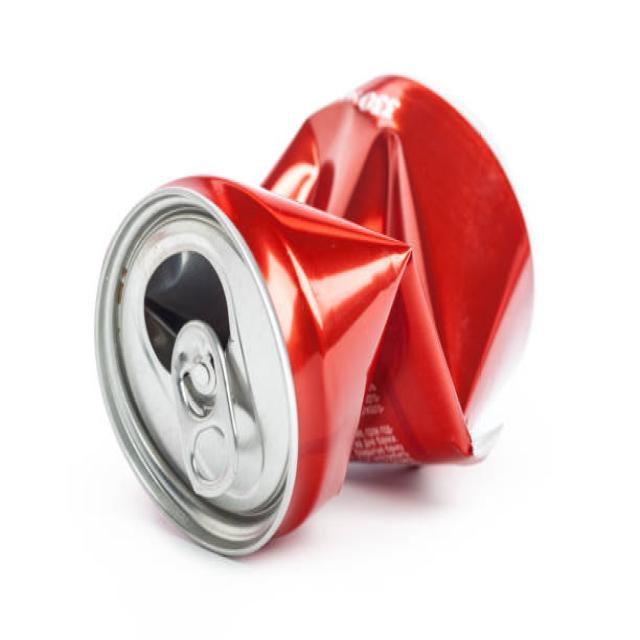can: (78, 46, 548, 570)
